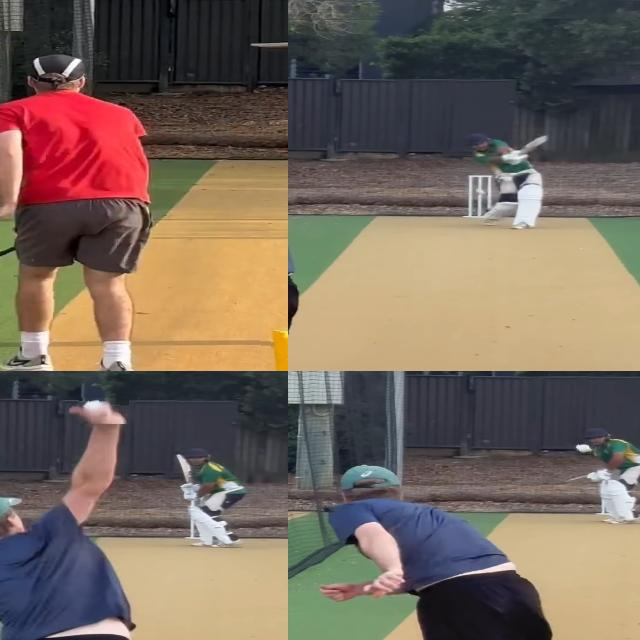Cricket ball: (72, 391, 129, 424), (573, 442, 595, 454), (473, 186, 488, 195)
Stumps: (467, 173, 494, 219)
